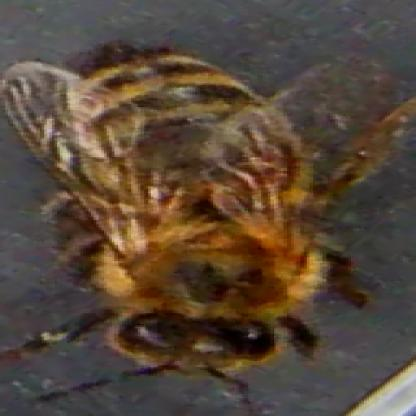bee: (31, 43, 322, 370)
